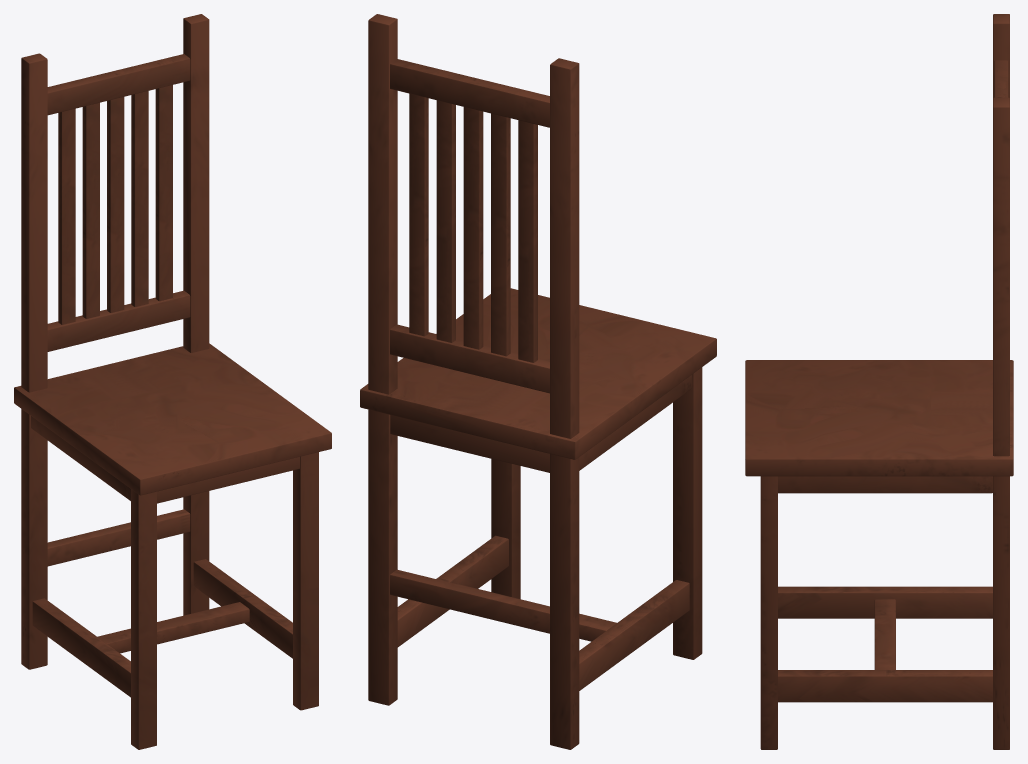
The model's file is Cadeira.fbx.
3 views of the same model, side by side, from view 1: azimuth 30°, elevation 25°; view 2: azimuth 150°, elevation 25°; view 3: azimuth 270°, elevation 25° (orthographic). The views are drawn at different scales.
Parts seen in each view (by area): view 1: Cadeira; view 2: Cadeira; view 3: Cadeira.
Part boxes in pixels (x1=…): Cadeira: x1=14, y1=14, x2=331, y2=749; Cadeira: x1=360, y1=14, x2=716, y2=749; Cadeira: x1=745, y1=14, x2=1013, y2=749.
Bounding box in the file's own units: 40.35 × 122 × 45.97.
Materials: 1 (1 with a texture image).
